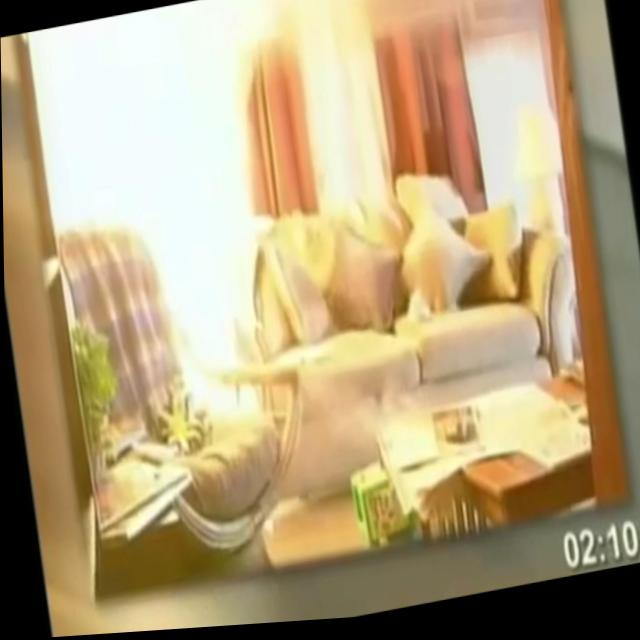fire: (29, 0, 319, 442)
